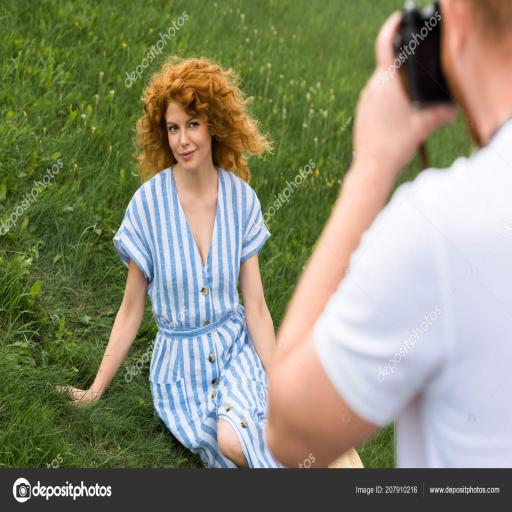person: (54, 54, 364, 468), (266, 0, 512, 468)
